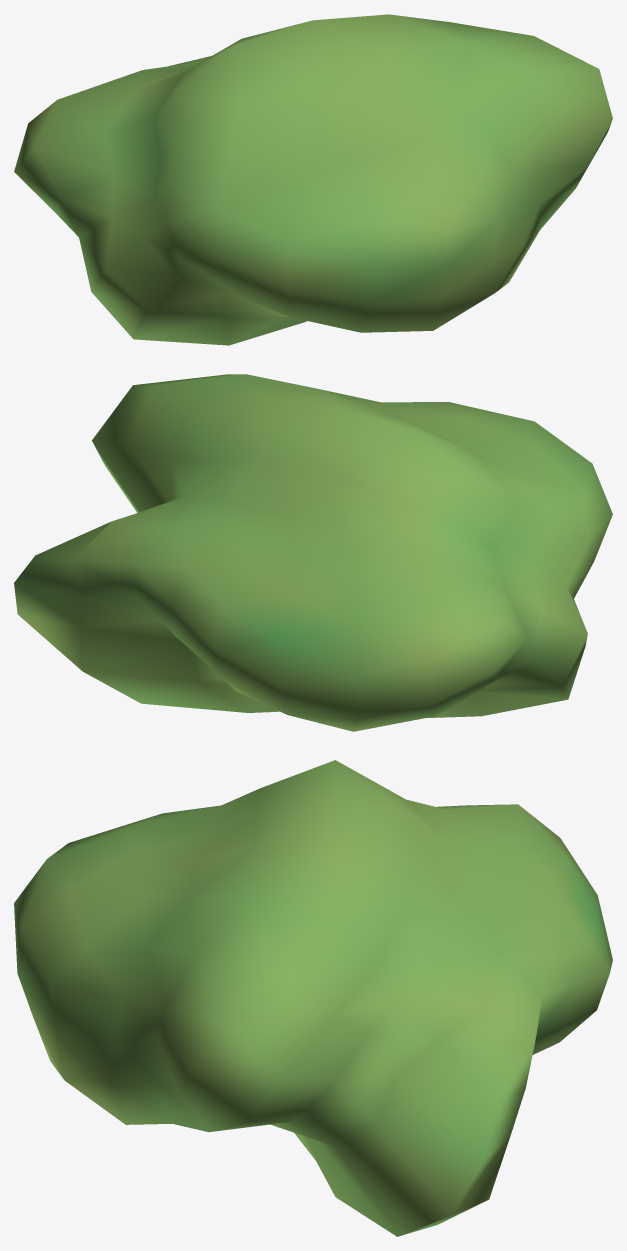
Rendered from SM_BeckStone_2.glb.
3 views of the same model, one above another, from view 1: azimuth 30°, elevation 25°; view 2: azimuth 150°, elevation 25°; view 3: azimuth 270°, elevation 25° (orthographic). The views are drawn at different scales.
Parts seen in each view (by area): view 1: SM_BeckStone_2; view 2: SM_BeckStone_2; view 3: SM_BeckStone_2.
Part boxes in pixels (<box>): SM_BeckStone_2: <box>14,14,612,345</box>; SM_BeckStone_2: <box>14,374,612,731</box>; SM_BeckStone_2: <box>14,760,612,1236</box>.
Size of the model in its own units: 1.19 by 0.6889 by 1.08.
